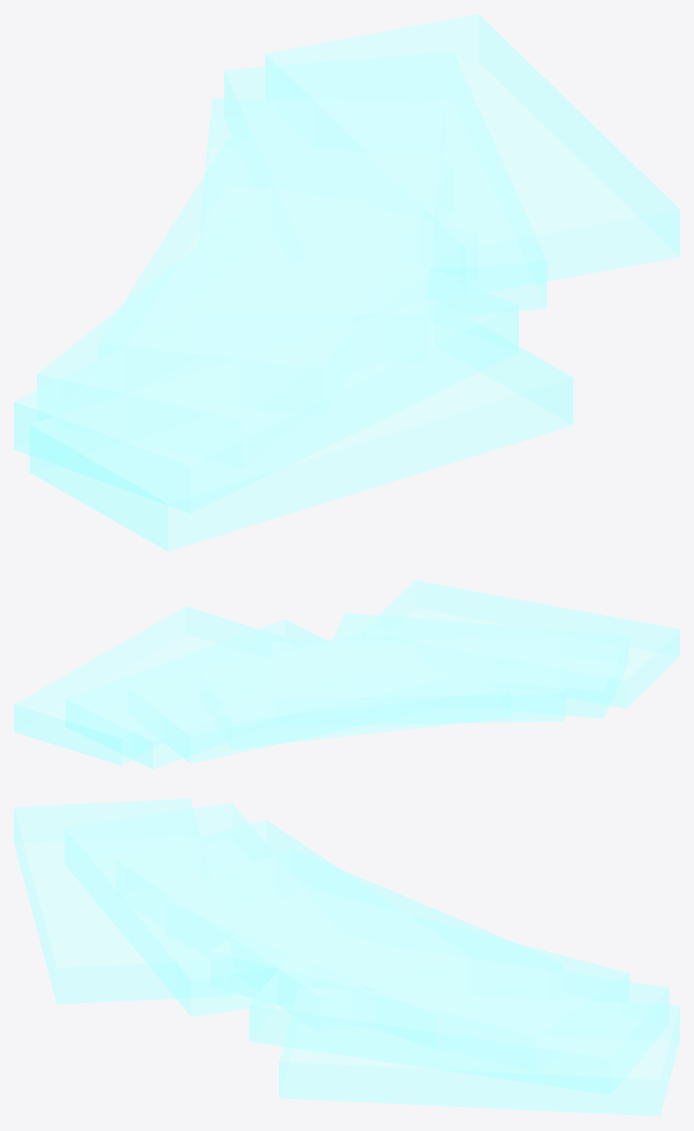
Rendered from GH_Road_Curve.fbx.
3 renders of one model, top to bottom at view 1: azimuth 30°, elevation 25°; view 2: azimuth 150°, elevation 25°; view 3: azimuth 270°, elevation 25°, orthographic. The views are drawn at different scales.
Parts seen in each view (by area): view 1: SM_Road_Curve; view 2: SM_Road_Curve; view 3: SM_Road_Curve.
Part boxes in pixels (x1,y1,x2,y2): SM_Road_Curve: (14, 14, 679, 551); SM_Road_Curve: (14, 580, 679, 769); SM_Road_Curve: (14, 798, 679, 1116).
Bounding box in the file's own units: 1.65 × 0.1 × 1.65.
